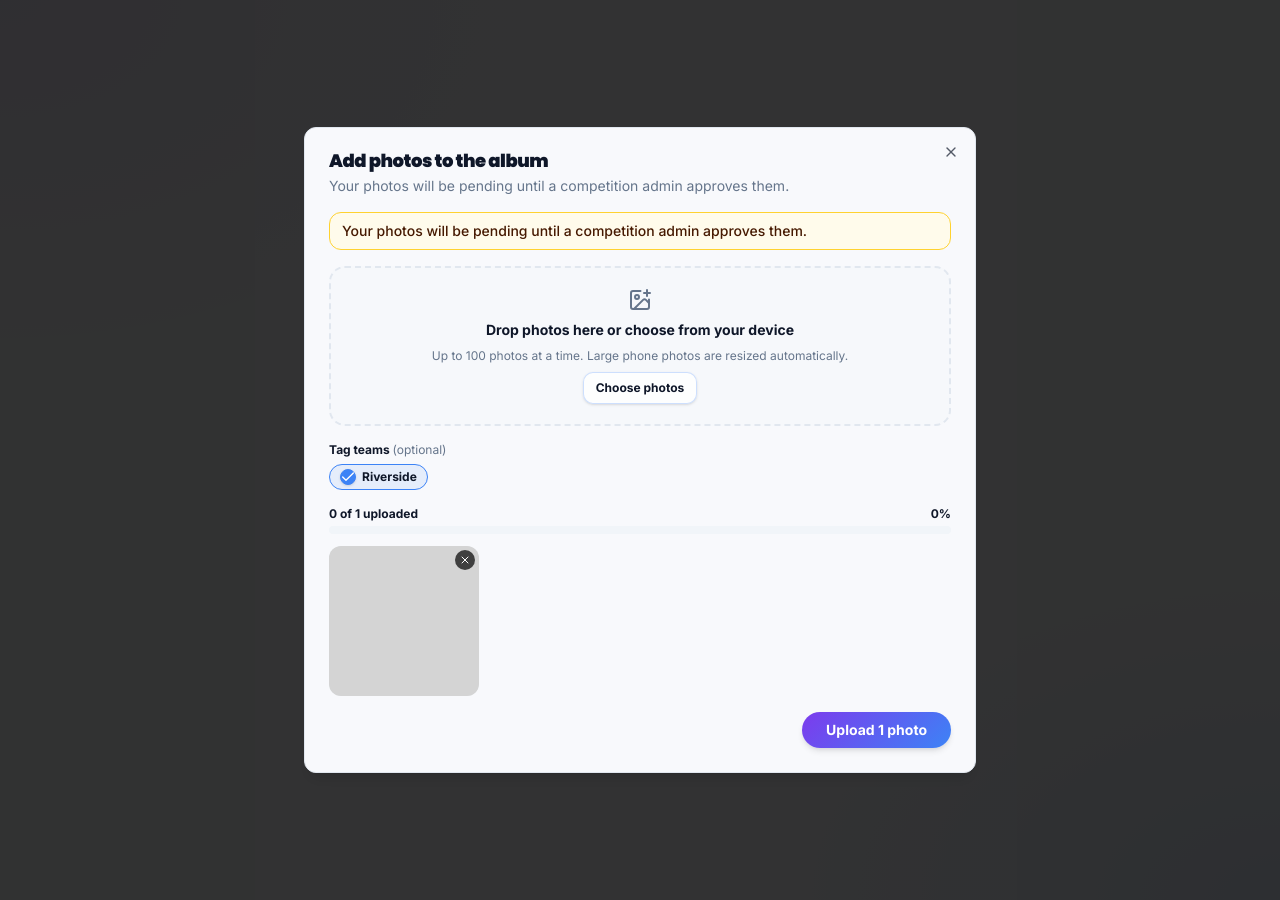
Scenario: competition album upload dialog › submits a single upload batch once and prevents duplicate completion while busy
This screenshot has width=1280, height=900.
Earlier steps of the test are not shown.
Click the button with test id "button-start-upload" at [877, 730], box [802,712,951,748]
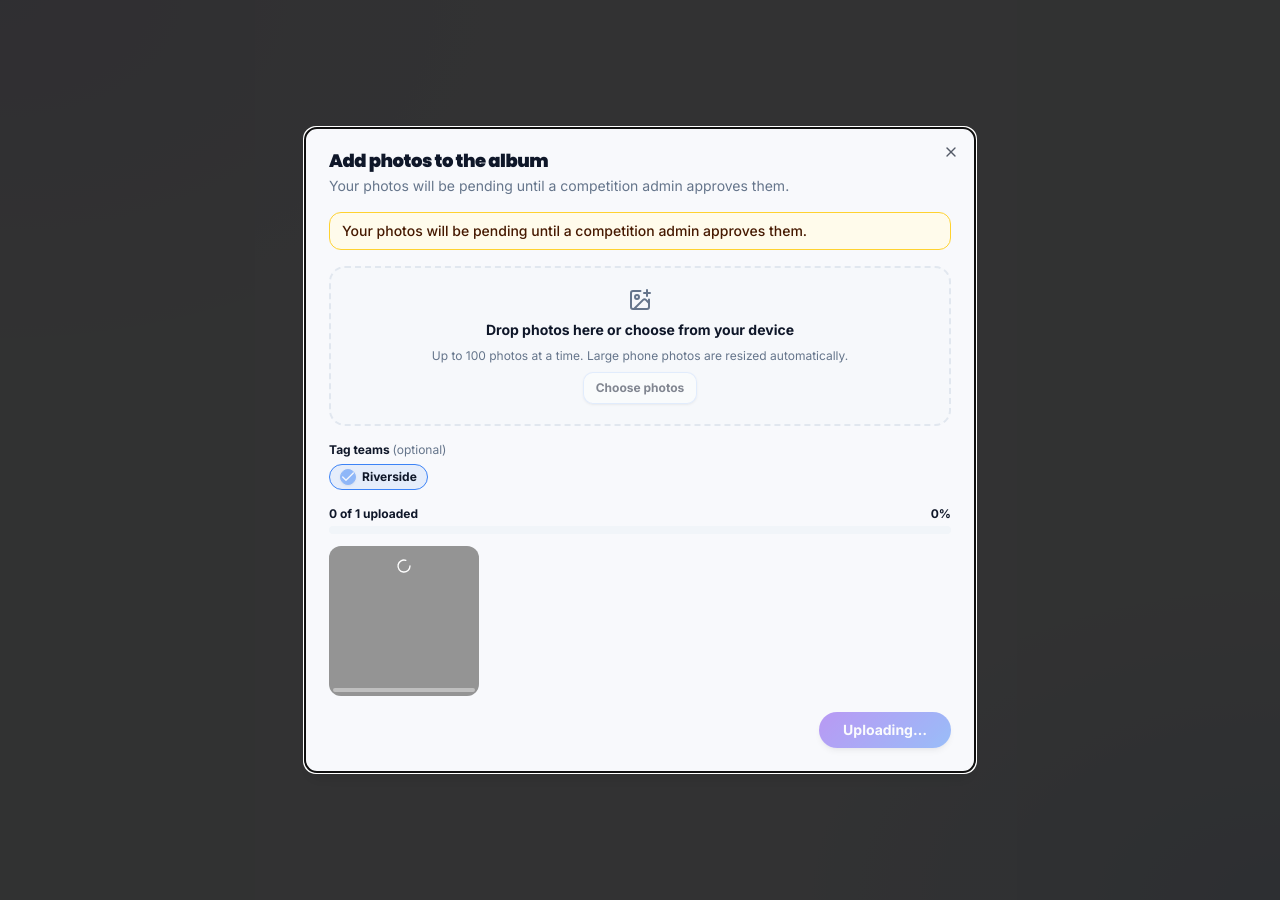
Expected: the button with test id "button-start-upload" is disabled
Click the button with test id "button-start-upload" at [885, 730], box [819,712,951,748]
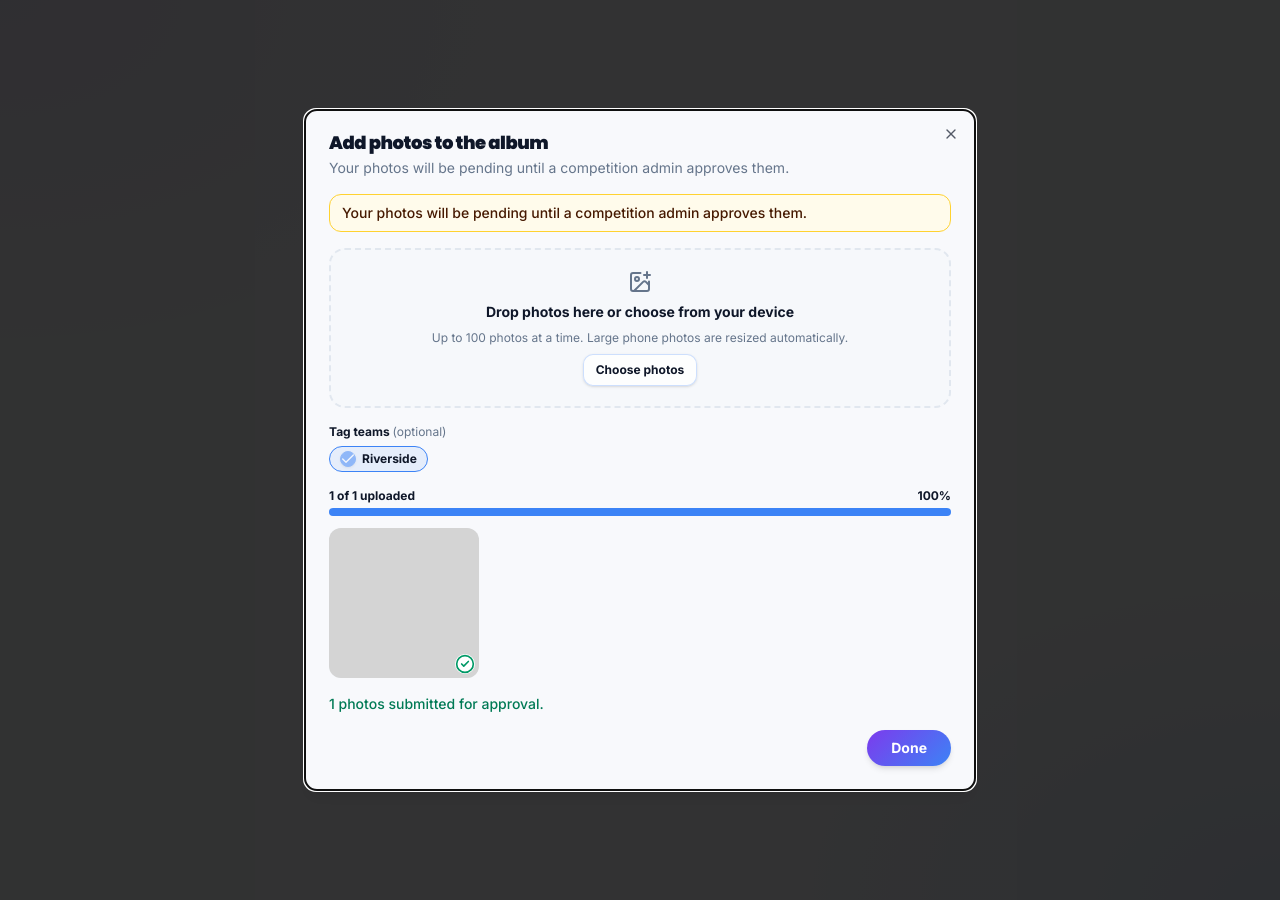
Expected: the message with test id "text-batch-complete" reads "1 photos submitted for approval.", [329,695,544,712]
